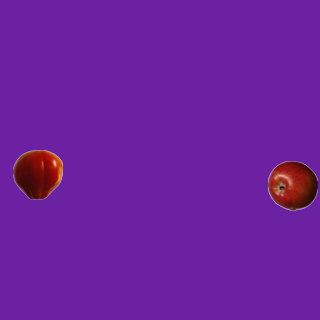Apple Braeburn: (267, 160, 317, 210)
Tomato 1: (12, 149, 62, 199)
